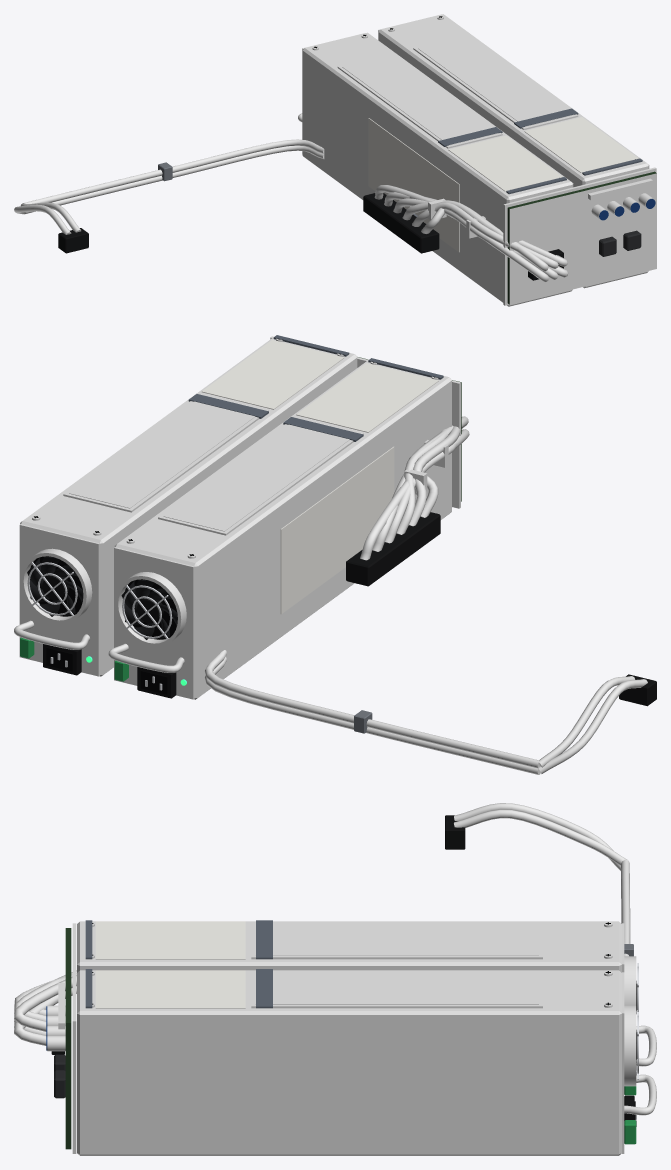
File: hwm_psu_2200w_red.glb
3 renders of one model, top to bottom at view 1: azimuth 30°, elevation 25°; view 2: azimuth 150°, elevation 25°; view 3: azimuth 270°, elevation 25°, orthographic. The views are drawn at different scales.
Visible parts, largest first — view 1: Body, Cable_ATX24, Cable_EPS_Run, Cable_EPS_Plug; view 2: Body, Cable_ATX24, Cable_EPS_Run, Cable_EPS_Plug; view 3: Body, Cable_EPS_Plug, Cable_ATX24, Cable_EPS_Run.
Boxes of the visible parts, x1=… form: Body: x1=298, y1=14, x2=656, y2=306; Cable_ATX24: x1=363, y1=185, x2=568, y2=281; Cable_EPS_Run: x1=23, y1=139, x2=324, y2=214; Cable_EPS_Plug: x1=14, y1=202, x2=88, y2=253; Body: x1=14, y1=335, x2=461, y2=699; Cable_ATX24: x1=346, y1=416, x2=469, y2=586; Cable_EPS_Run: x1=204, y1=650, x2=540, y2=774; Cable_EPS_Plug: x1=538, y1=674, x2=656, y2=773; Body: x1=46, y1=920, x2=656, y2=1155; Cable_EPS_Plug: x1=445, y1=803, x2=627, y2=870; Cable_ATX24: x1=14, y1=970, x2=76, y2=1054; Cable_EPS_Run: x1=621, y1=859, x2=633, y2=956.
Size of the model in its own units: 0.4035 by 0.0958 by 0.3776.
